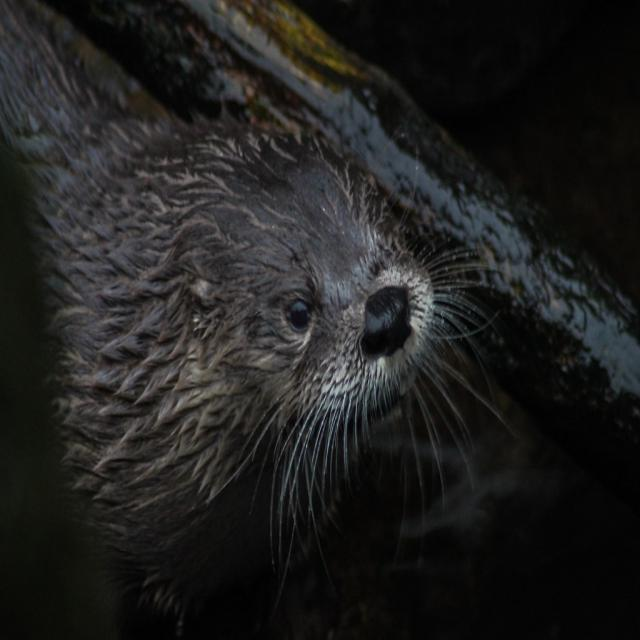otter: (64, 119, 436, 510)
